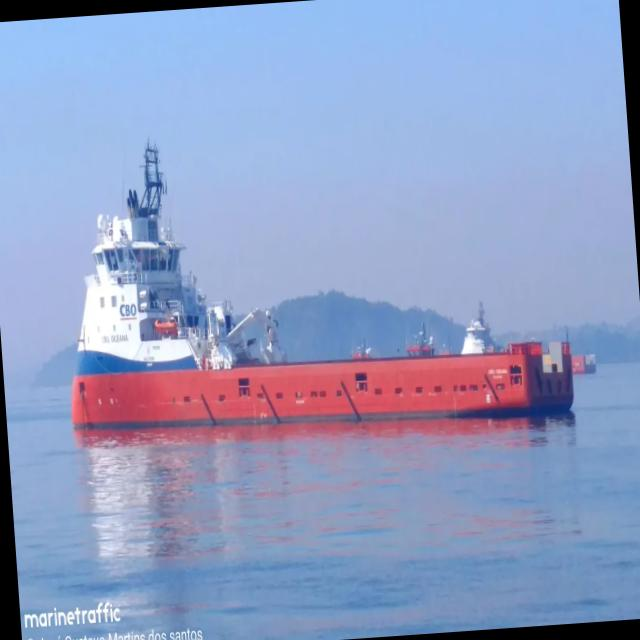Offshore: (71, 144, 573, 427)
